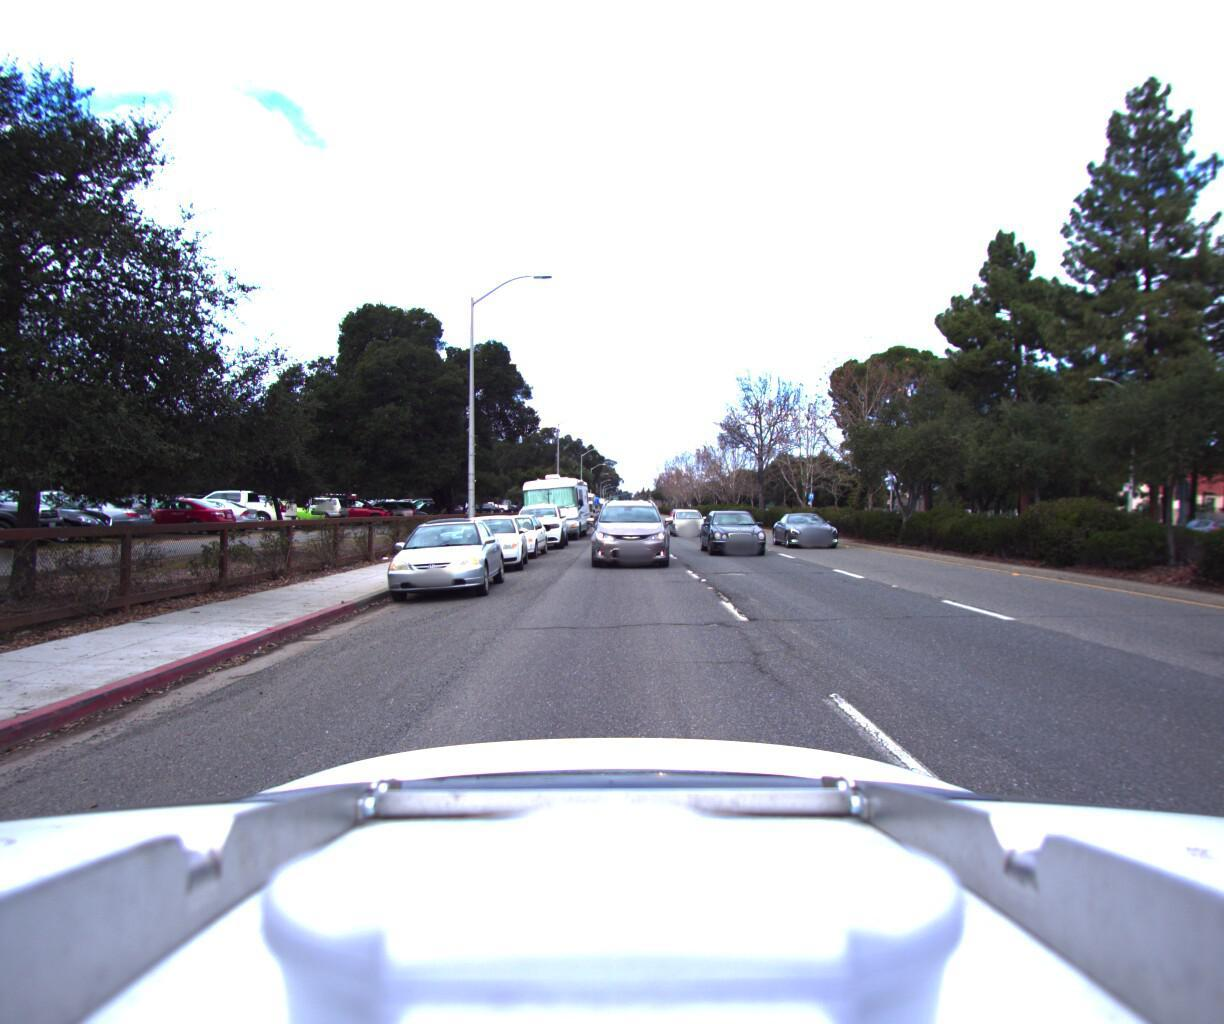car: (378, 513, 506, 605), (593, 495, 670, 574), (444, 510, 529, 573), (700, 506, 781, 559), (474, 510, 549, 560), (776, 504, 856, 550), (509, 497, 566, 549), (1158, 514, 1224, 551), (315, 494, 392, 524), (344, 496, 415, 523), (399, 497, 460, 520), (670, 507, 713, 539)
other_vehicle: (510, 465, 588, 541), (557, 484, 594, 524)
